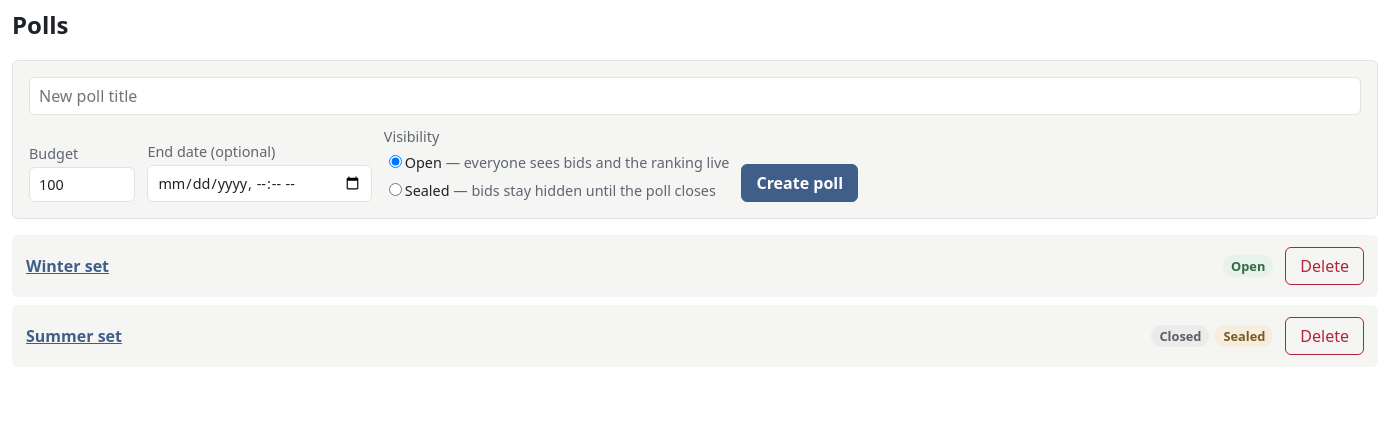
it: PollsList › shows an error when creating fails
In the field labelled "New poll title": (695, 96) [29, 77, 1361, 115], type "Fall set"
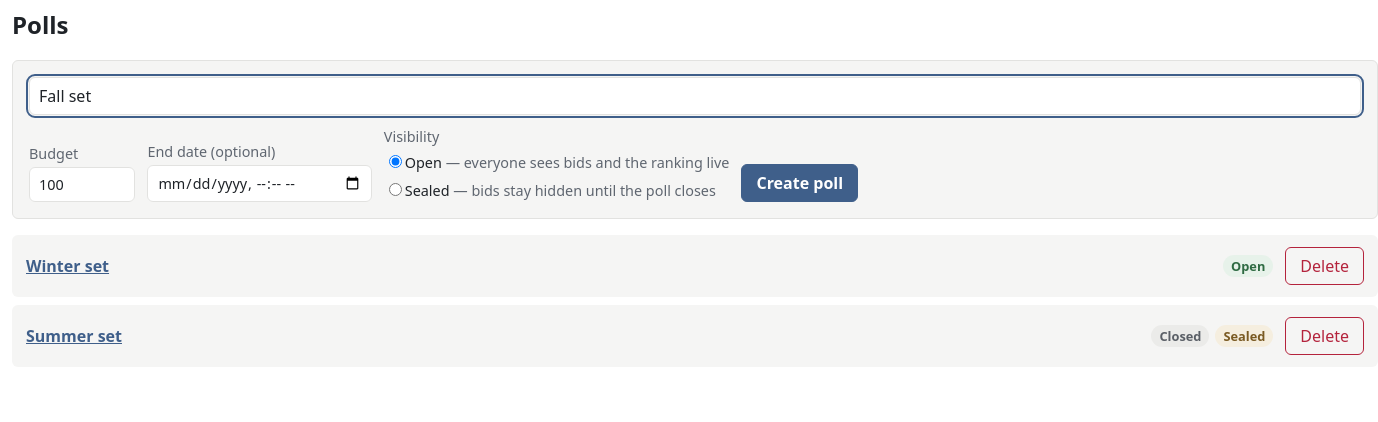
Click the button "Create poll": (800, 183) [741, 164, 858, 202]
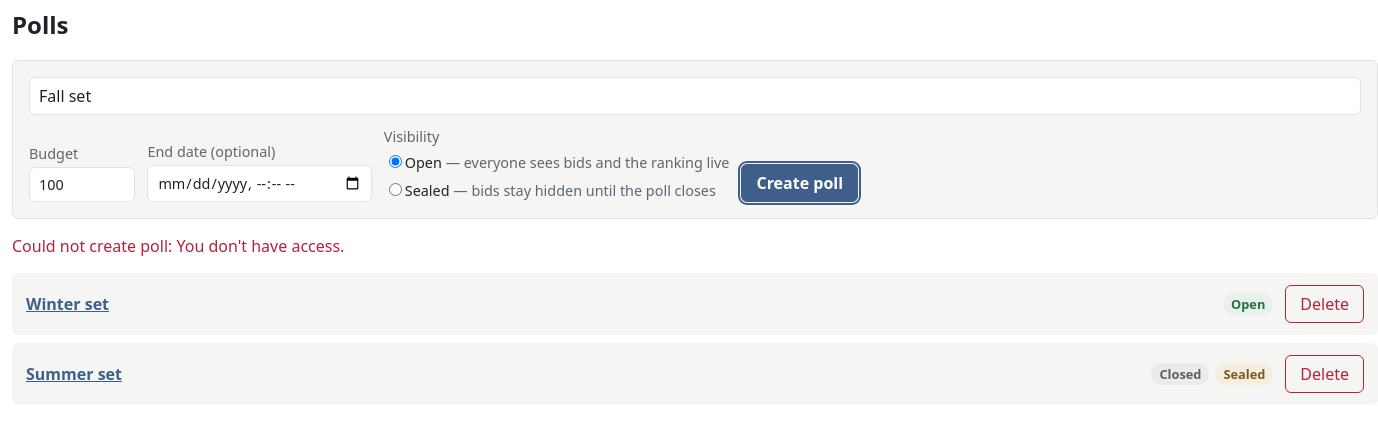
Check: the message reads "Could not create poll: You don't have access.", box [12, 235, 344, 257]
